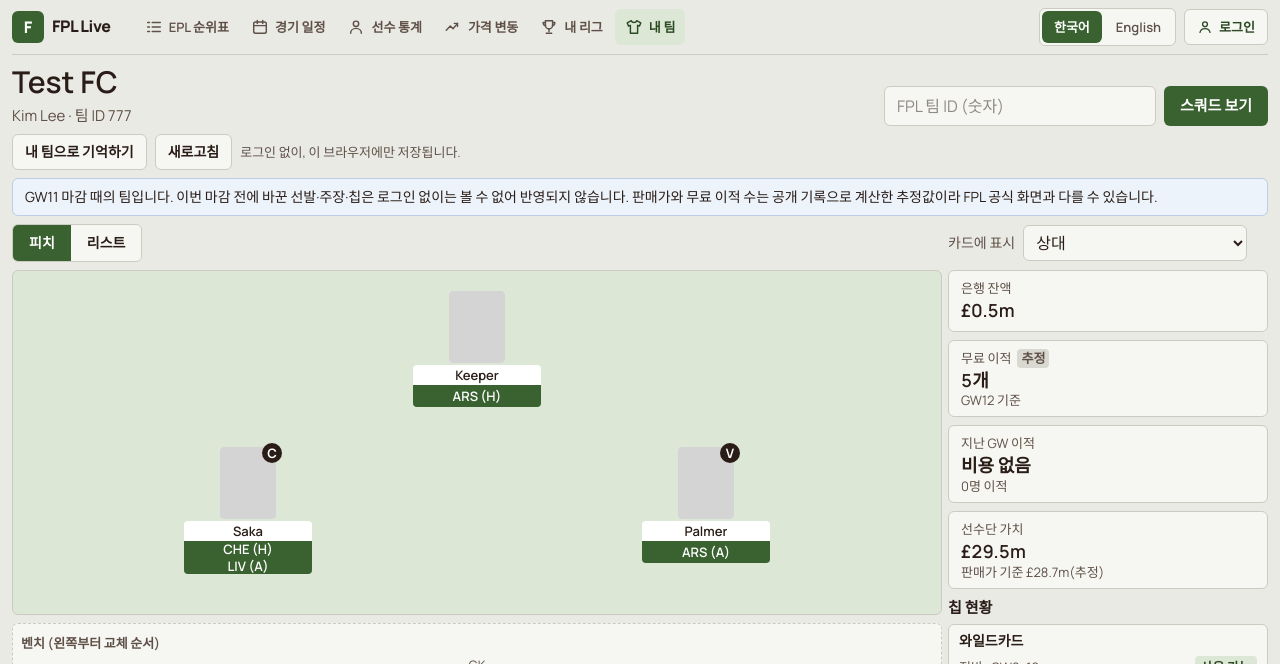
Test: squad page › switches what the cards show, and remembers the choice
The image size is (1280, 664).
Check: the heading "Test FC" is shown, box [12,63,132,100]
Select "판매가(추정)" in the dropdown labelled "카드에 표시". click: (1135, 243)
box: [1023,225,1247,261]
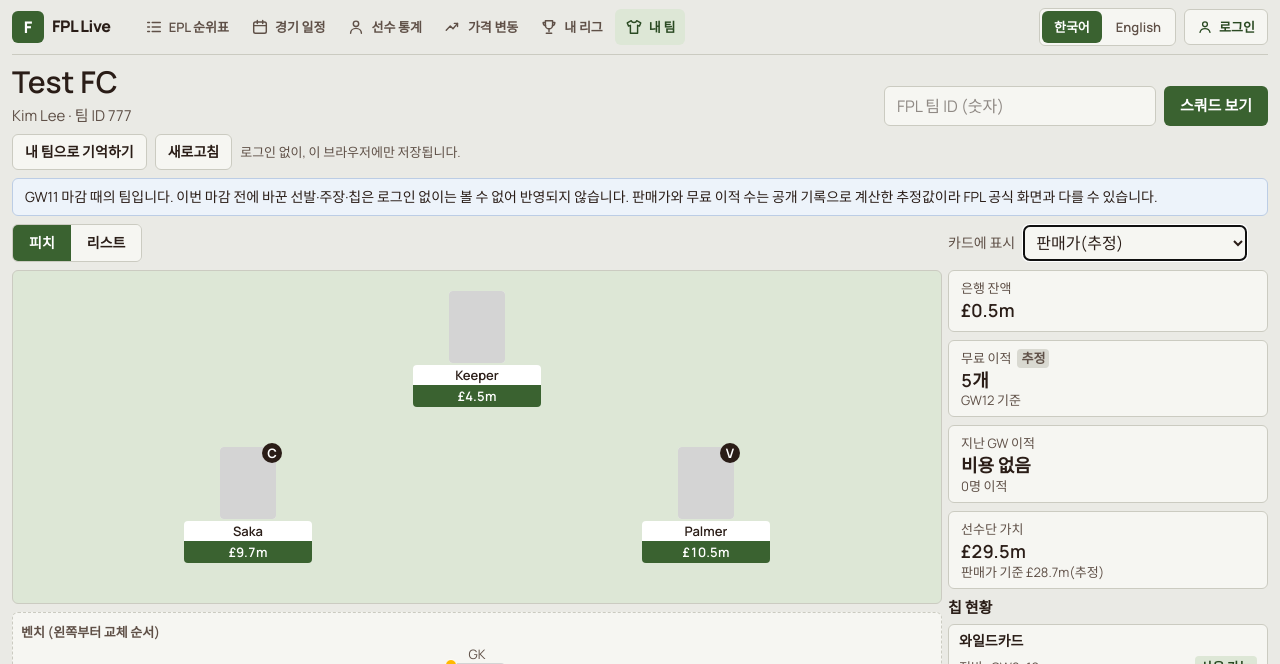
Check: the text "£9.7m" is shown, box [229,542,267,562]
Check: the text "£10.5m" is shown, box [683,542,729,562]
Select "가격 변동(시즌 시작가 대비)" in the dropdown labelled "카드에 표시". click: (1135, 243)
box: [1023,225,1247,261]
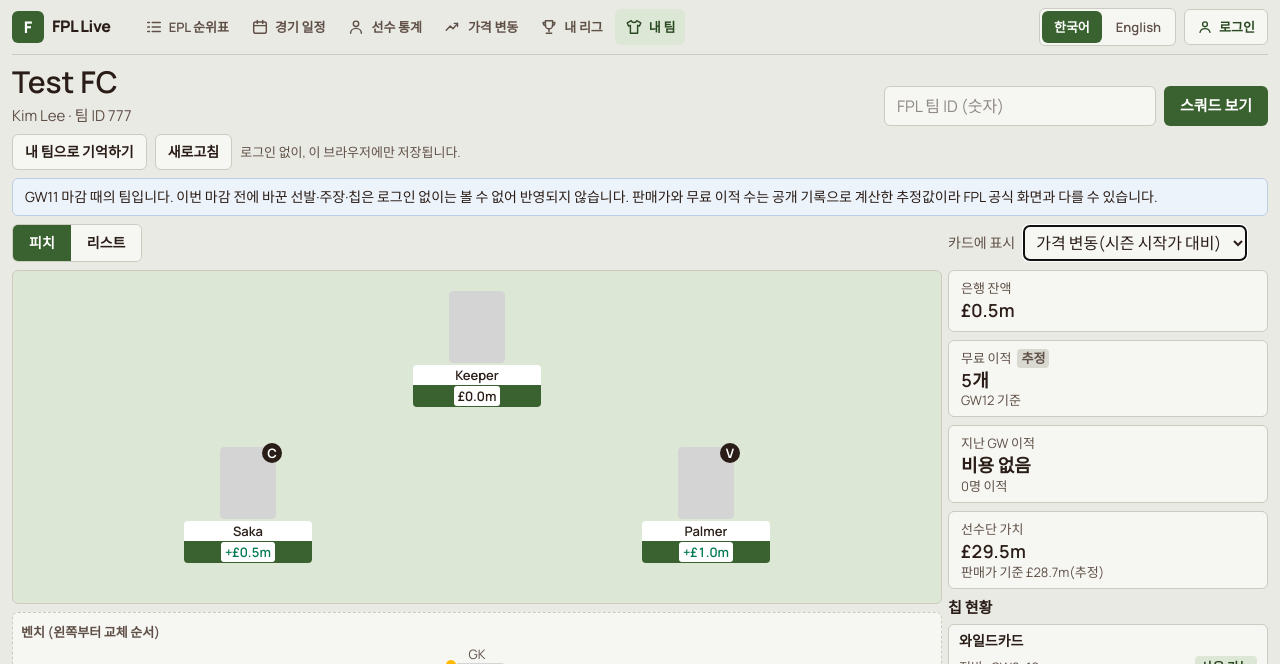
Check: the text "+£0.5m" is shown, box [221,542,275,562]
Select "소유율" in the dropdown labelled "카드에 표시". click: (1135, 243)
box: [1023,225,1247,261]
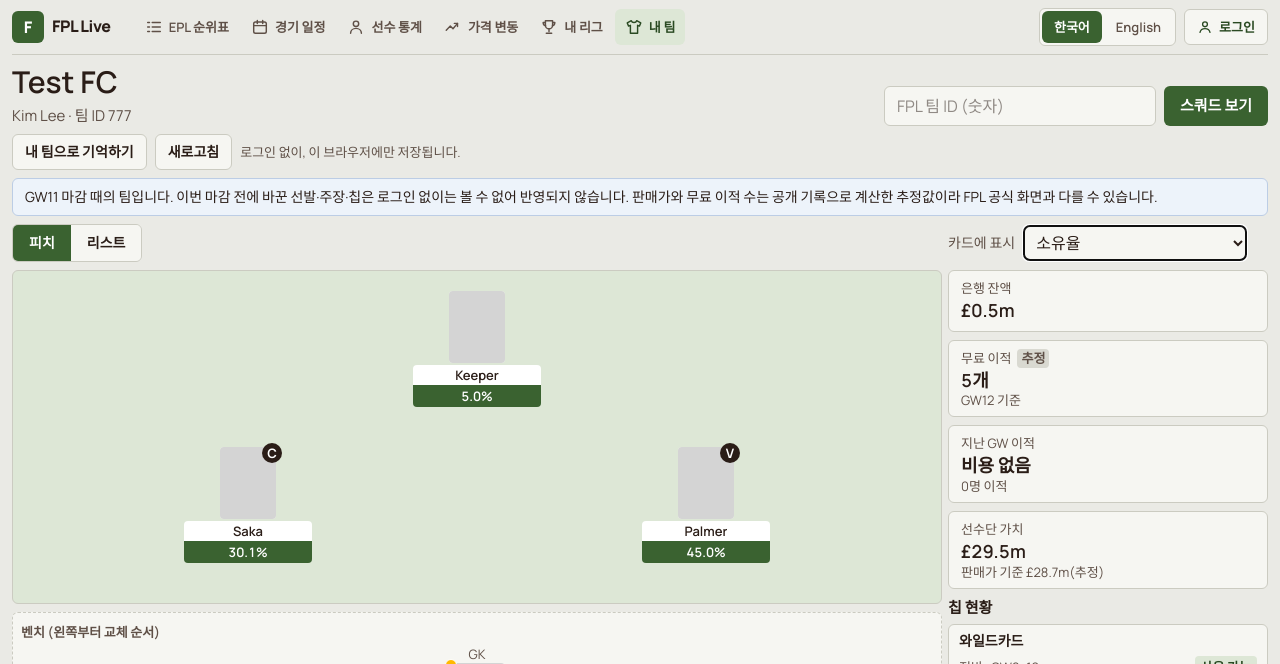
Check: the text "30.1%" is shown, box [228,542,268,562]
Select "폼" in the dropdown labelled "카드에 표시". click: (1135, 243)
box: [1023,225,1247,261]
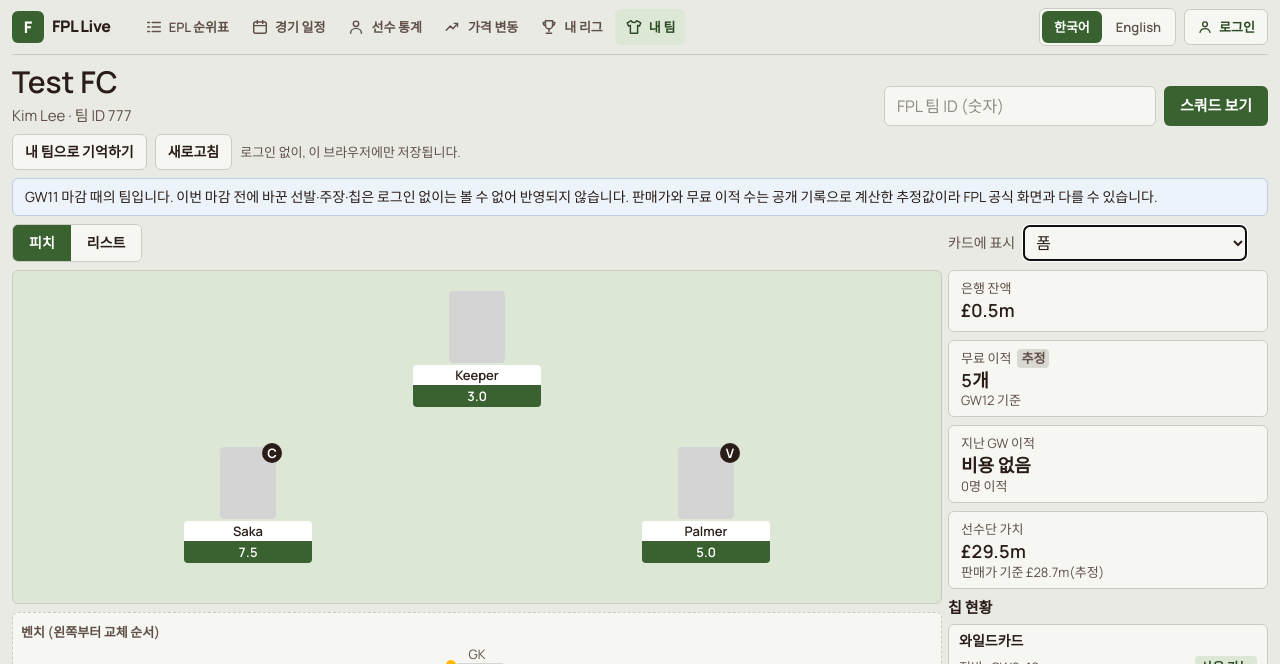
Check: the text "7.5" is shown, box [238,542,258,562]
Select "점수" in the dropdown labelled "카드에 표시". click: (1135, 243)
box: [1023,225,1247,261]
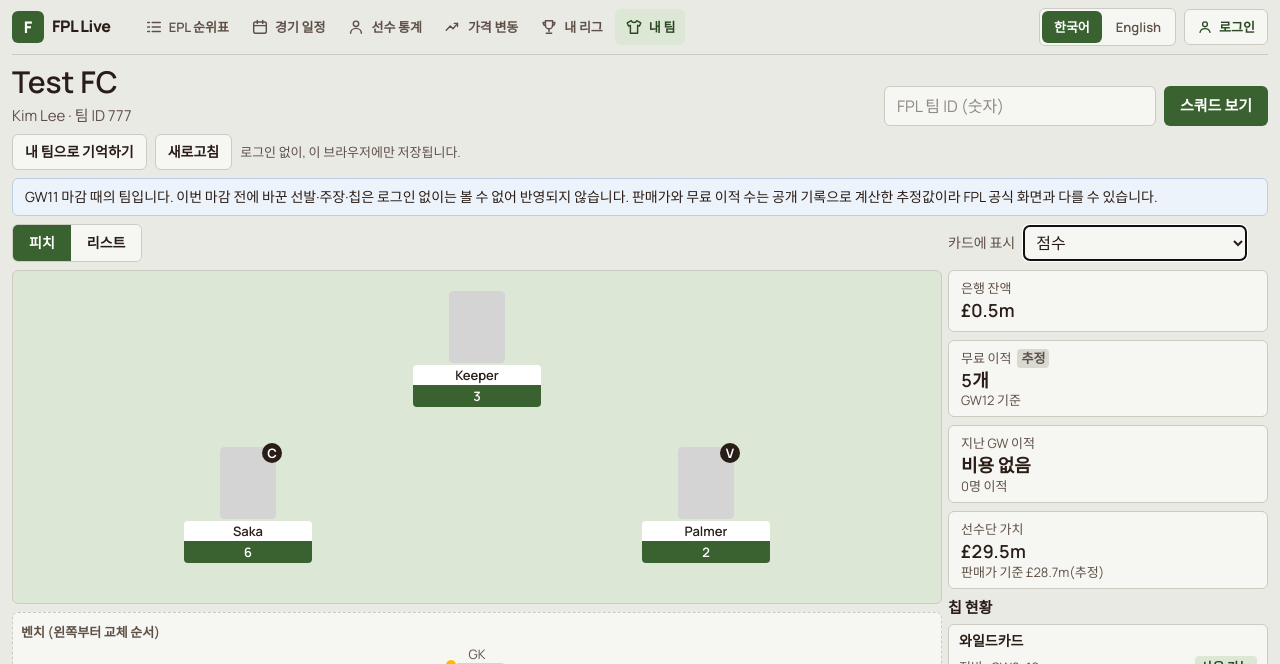
Check: the text "6" is shown, box [244,542,252,562]
Select "FDR" in the dropdown labelled "카드에 표시". click: (1135, 243)
box: [1023,225,1247,261]
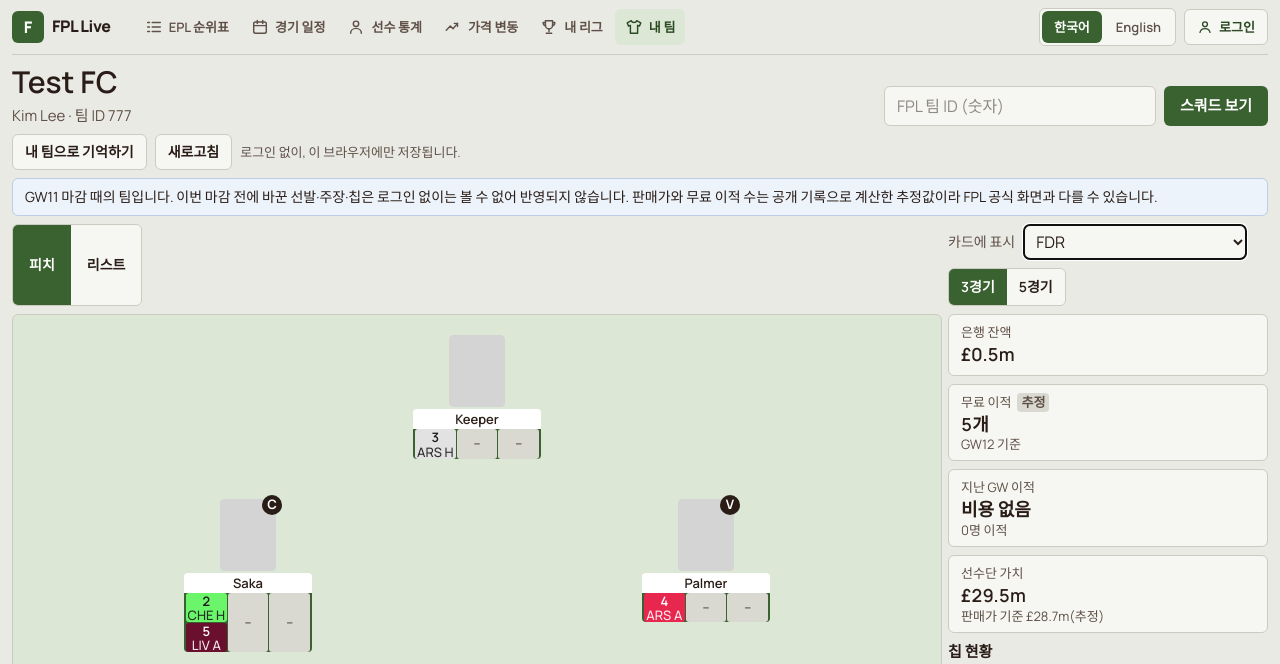
Check: the text "5" is shown, box [202,622,210,640]
